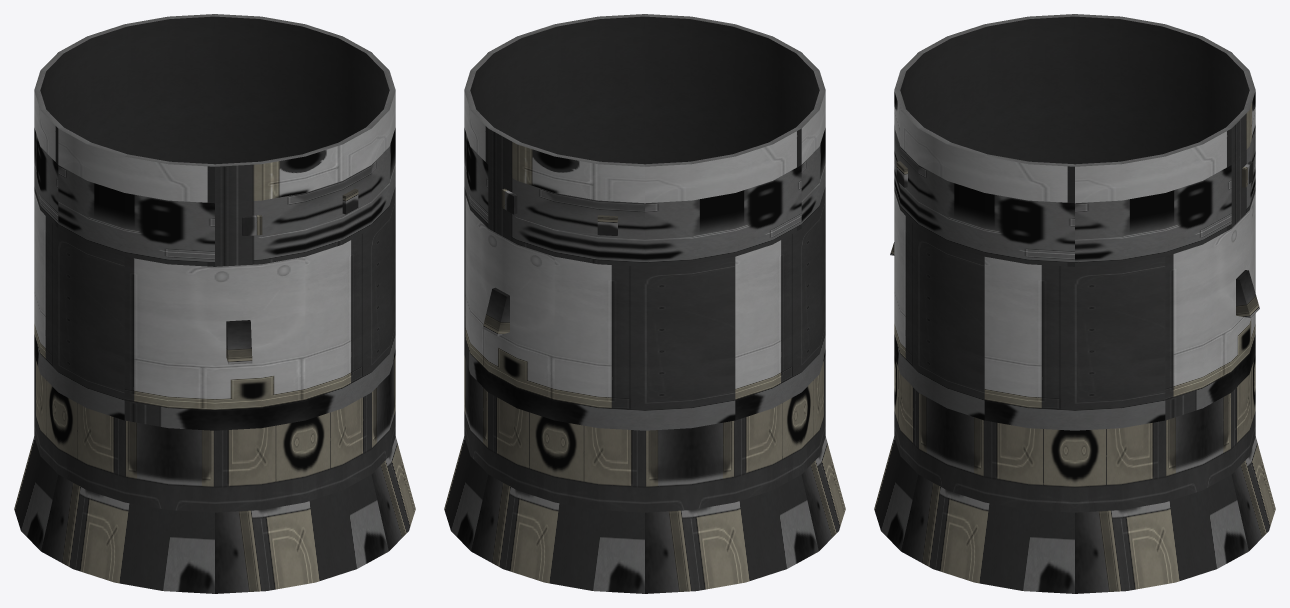
File: interstage.fbx
The picture shows the model from 3 angles, left to right: view 1: azimuth 30°, elevation 25°; view 2: azimuth 150°, elevation 25°; view 3: azimuth 270°, elevation 25°; orthographic projection.
Visible parts, largest first — view 1: mesh; view 2: mesh; view 3: mesh.
Boxes of the visible parts, bbox=[...] form: mesh: bbox=[14, 14, 415, 593]; mesh: bbox=[444, 14, 845, 593]; mesh: bbox=[874, 14, 1275, 593].
Bounding box in the file's own units: 2.5 × 2.88 × 2.5.
